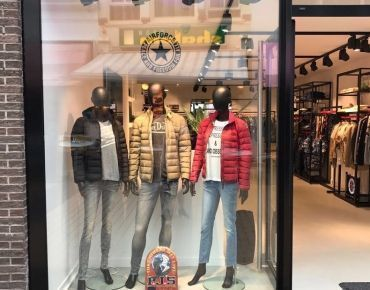person-like: (123, 80, 193, 290), (67, 84, 135, 290), (188, 82, 254, 290)
